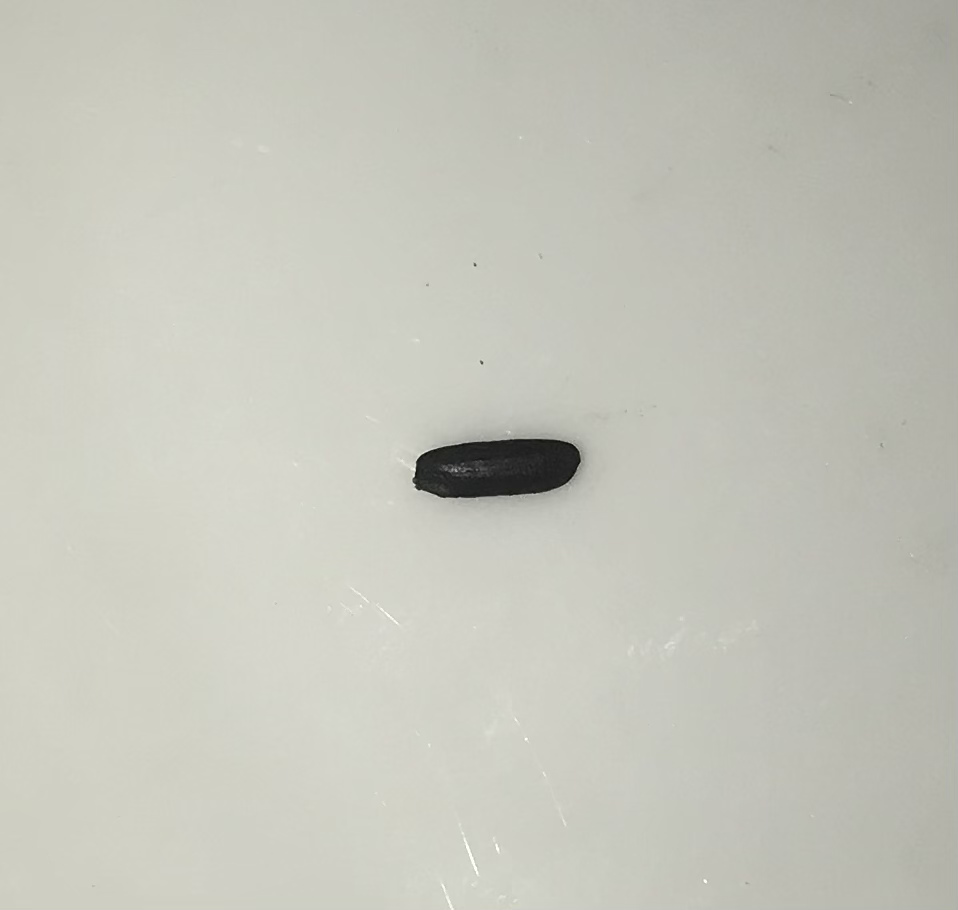Gao Nep Cam: (406, 408, 584, 518)
